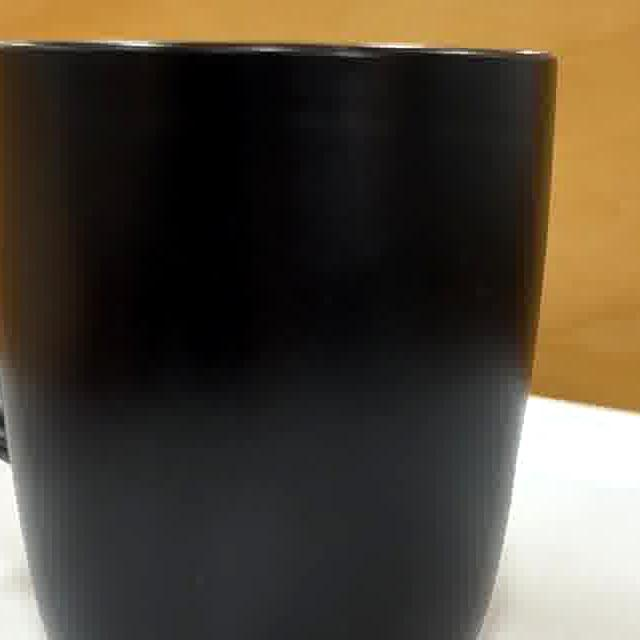cup: (0, 43, 551, 640)
